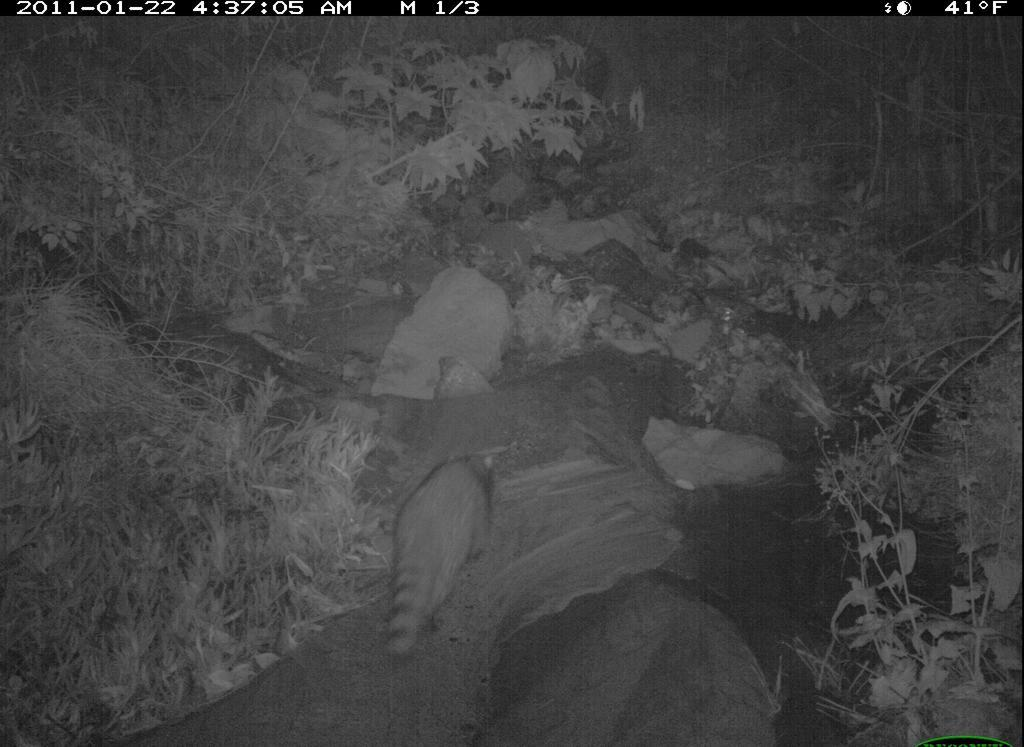raccoon: (382, 427, 515, 679)
